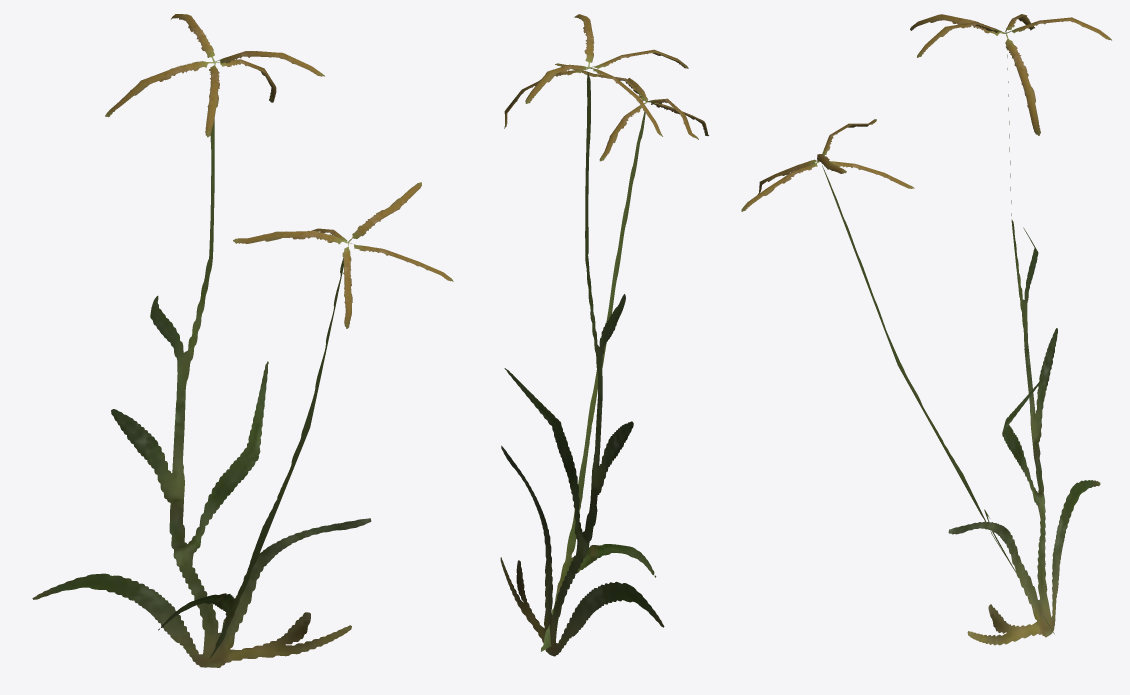
3 views of the same model, side by side, from view 1: azimuth 30°, elevation 25°; view 2: azimuth 150°, elevation 25°; view 3: azimuth 270°, elevation 25° (orthographic). The views are drawn at different scales.
Parts seen in each view (by area): view 1: grass_bermuda_01__d_lod0; view 2: grass_bermuda_01__d_lod0; view 3: grass_bermuda_01__d_lod0.
Part boxes in pixels (x1,y1,x2,y2): grass_bermuda_01__d_lod0: [32, 14, 453, 667]; grass_bermuda_01__d_lod0: [500, 14, 708, 656]; grass_bermuda_01__d_lod0: [741, 14, 1111, 645].
Size of the model in its own units: 0.0696 by 0.1522 by 0.0831.
1 material, 1 textured.
